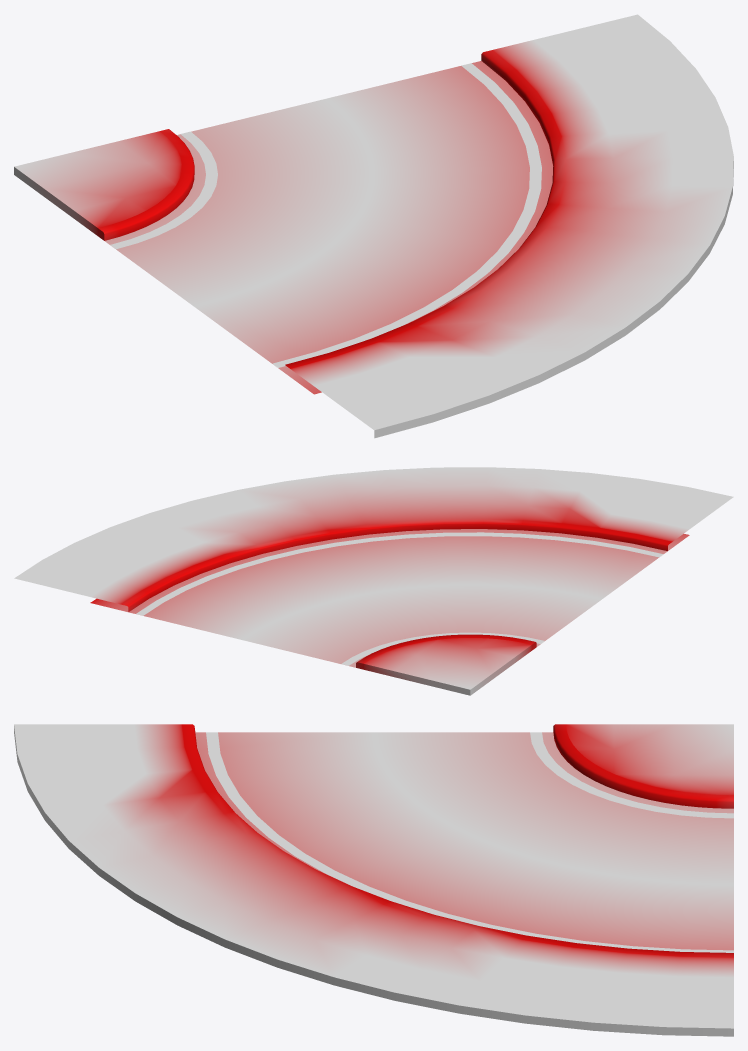
File: Street_Curve_2Lane.gltf
3 renders of one model, top to bottom at view 1: azimuth 30°, elevation 25°; view 2: azimuth 150°, elevation 25°; view 3: azimuth 270°, elevation 25°, orthographic. The views are drawn at different scales.
Parts seen in each view (by area): view 1: Street_Curve_2Lane; view 2: Street_Curve_2Lane; view 3: Street_Curve_2Lane.
Part boxes in pixels (x1,y1,x2,y2): Street_Curve_2Lane: (14, 14, 733, 438); Street_Curve_2Lane: (14, 467, 733, 695); Street_Curve_2Lane: (14, 724, 733, 1036).
Size of the model in its own units: 12 by 0.15 by 12.
